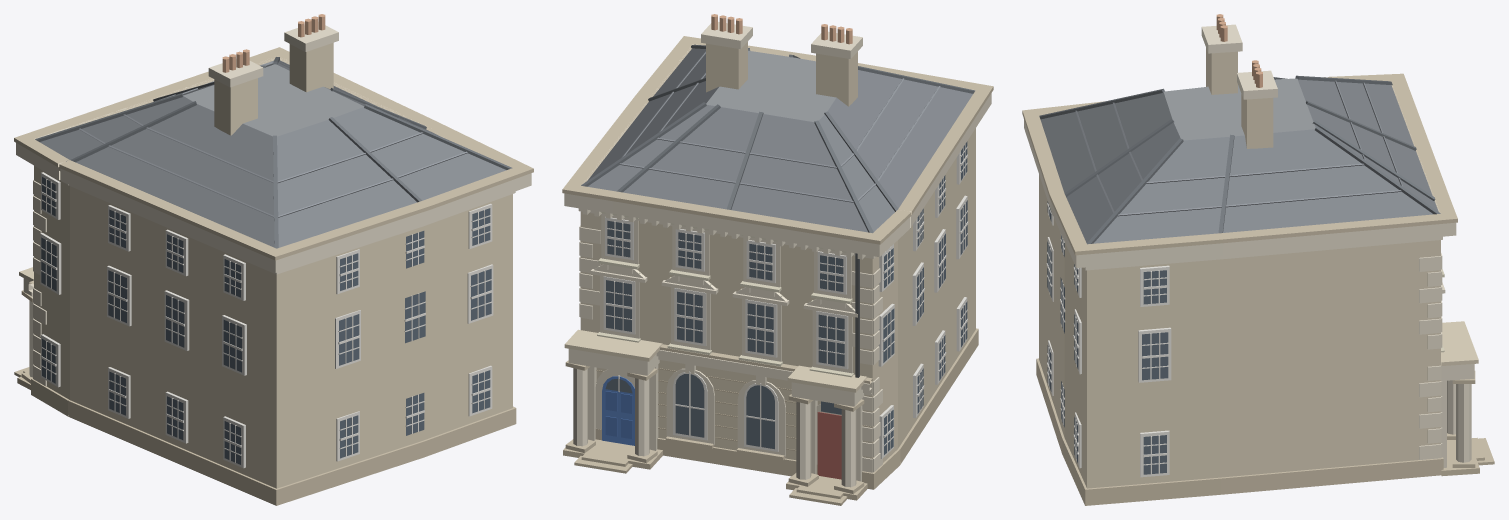
3 renders of one model, left to right at view 1: azimuth 30°, elevation 25°; view 2: azimuth 150°, elevation 25°; view 3: azimuth 270°, elevation 25°, orthographic. The views are drawn at different scales.
Parts seen in each view (by area): view 1: ss004, slate004, ss_dk004, frame004, window_glass_007, ss_lt004, lead004, slate_dk004, slate_lt004, pot004; view 2: ss004, ss_lt004, slate004, ss_dk004, window_glass_007, frame004, lead004, slate_dk004, dress_buff004, slate_lt004, door_red_dk004, door_royal004 (+4 smaller); view 3: ss004, slate004, ss_dk004, ss_lt004, lead004, slate_dk004, frame004, window_glass_007, slate_lt004.
Boxes of the visible parts, x1,y1,x2,y2 form: ss004: [19, 42, 512, 488]; slate004: [40, 60, 506, 247]; ss_dk004: [14, 47, 533, 505]; frame004: [40, 172, 493, 468]; window_glass_007: [41, 177, 491, 464]; ss_lt004: [16, 22, 531, 386]; lead004: [183, 64, 364, 136]; slate_dk004: [35, 57, 512, 248]; slate_lt004: [79, 60, 467, 217]; pot004: [222, 14, 325, 72]; ss004: [564, 42, 975, 462]; ss_lt004: [564, 21, 991, 487]; slate004: [587, 48, 972, 232]; ss_dk004: [562, 36, 993, 505]; window_glass_007: [605, 141, 967, 454]; frame004: [603, 144, 968, 458]; lead004: [706, 50, 836, 122]; slate_dk004: [581, 44, 975, 233]; dress_buff004: [597, 212, 853, 377]; slate_lt004: [619, 51, 940, 202]; door_red_dk004: [817, 412, 841, 479]; door_royal004: [602, 376, 634, 445]; ss004: [1039, 48, 1478, 488]; slate004: [1040, 79, 1438, 243]; ss_dk004: [1022, 73, 1494, 505]; ss_lt004: [1024, 24, 1474, 467]; lead004: [1163, 78, 1315, 140]; slate_dk004: [1039, 75, 1440, 244]; frame004: [1046, 203, 1171, 477]; window_glass_007: [1047, 201, 1168, 474]; slate_lt004: [1075, 80, 1402, 216].
Bounding box in the file's own units: 14.12 × 14.02 × 15.83.
